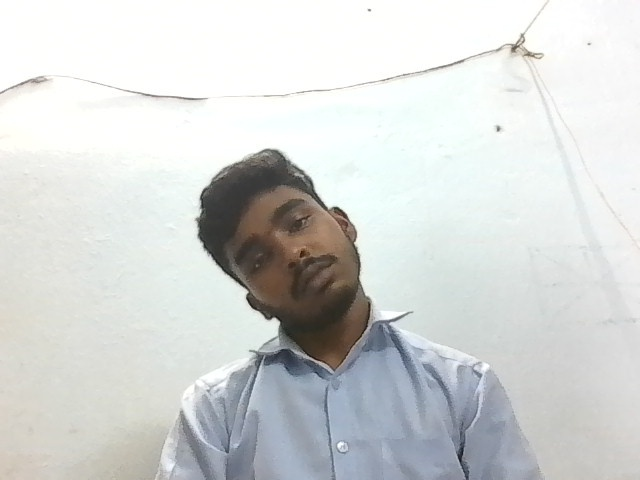real: (238, 157, 356, 325)
